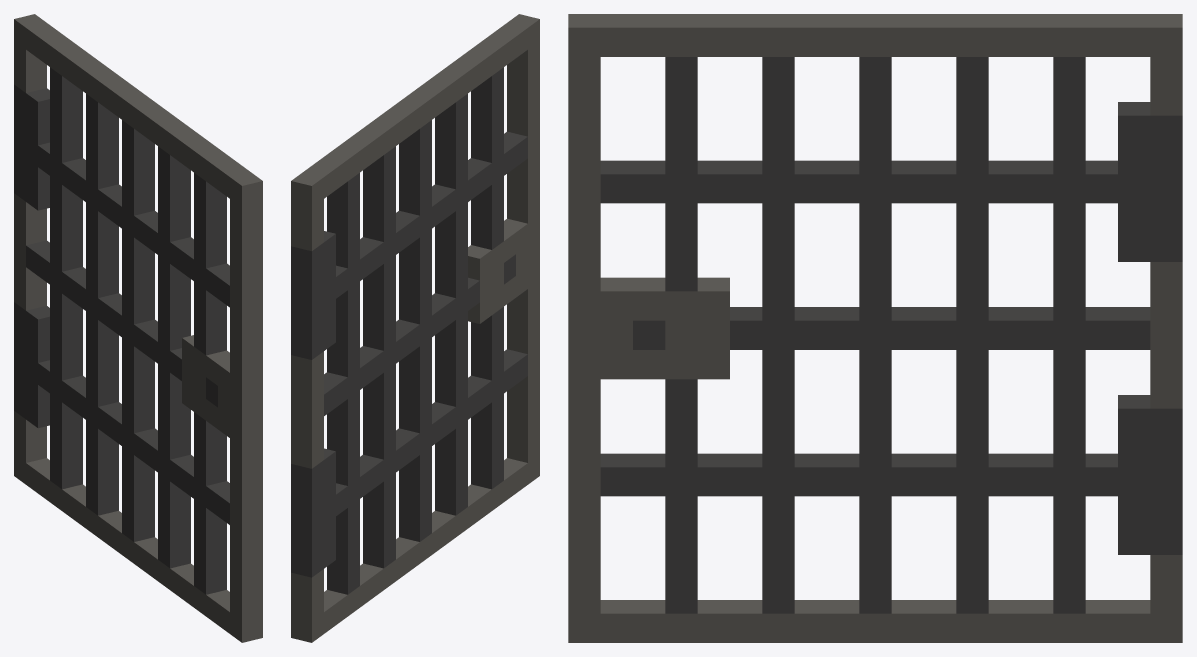
File: iron_bars_door.fbx
3 renders of one model, left to right at view 1: azimuth 30°, elevation 25°; view 2: azimuth 150°, elevation 25°; view 3: azimuth 270°, elevation 25°, orthographic. The views are drawn at different scales.
Parts seen in each view (by area): view 1: iron_bars_door; view 2: iron_bars_door; view 3: iron_bars_door.
Part boxes in pixels (x1=…): iron_bars_door: x1=14, y1=14, x2=262, y2=642; iron_bars_door: x1=291, y1=14, x2=539, y2=642; iron_bars_door: x1=568, y1=14, x2=1182, y2=642.
Size of the model in its own units: 10 by 210 by 190.
